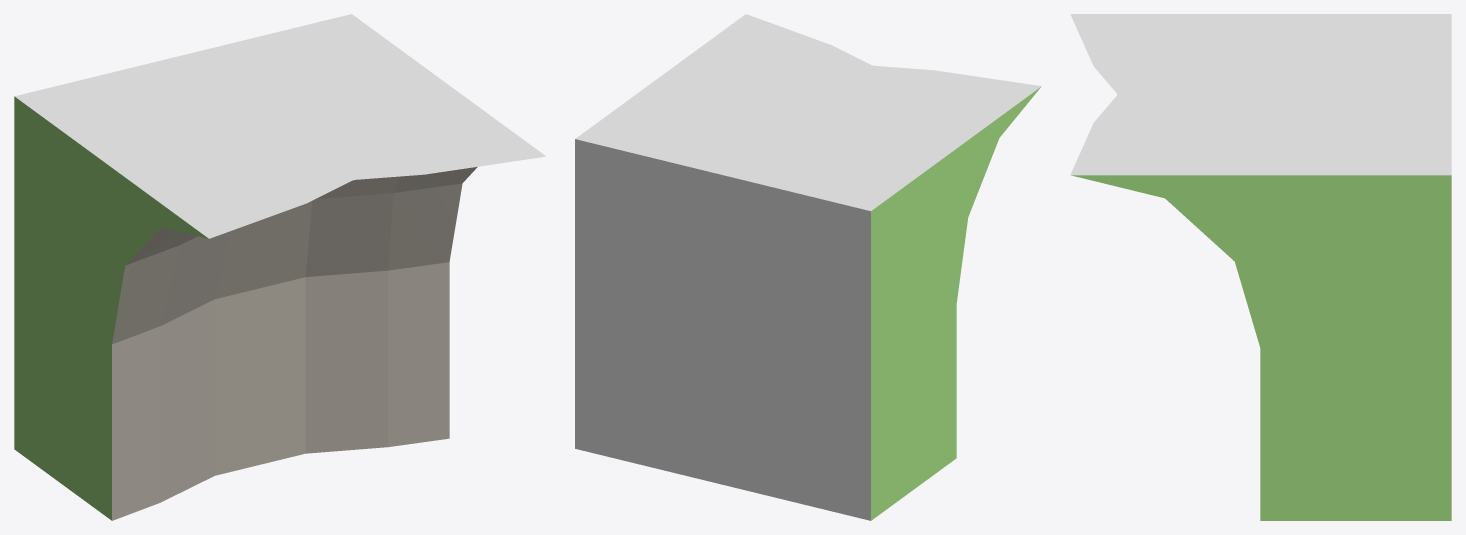
File: Wall_Straight_Deformed_Concave_2x2_Top.glb
The picture shows the model from 3 angles, left to right: view 1: azimuth 30°, elevation 25°; view 2: azimuth 150°, elevation 25°; view 3: azimuth 270°, elevation 25°; orthographic projection. The views are drawn at different scales.
Visible parts, largest first — view 1: Wall_Straight_Deformed_Concave_2x2_Top; view 2: Wall_Straight_Deformed_Concave_2x2_Top; view 3: Wall_Straight_Deformed_Concave_2x2_Top.
Boxes of the visible parts, x1,y1,x2,y2 form: Wall_Straight_Deformed_Concave_2x2_Top: (14,14,545,520); Wall_Straight_Deformed_Concave_2x2_Top: (575,14,1041,520); Wall_Straight_Deformed_Concave_2x2_Top: (1070,14,1451,520).
Size of the model in its own units: 200 by 200 by 200.
